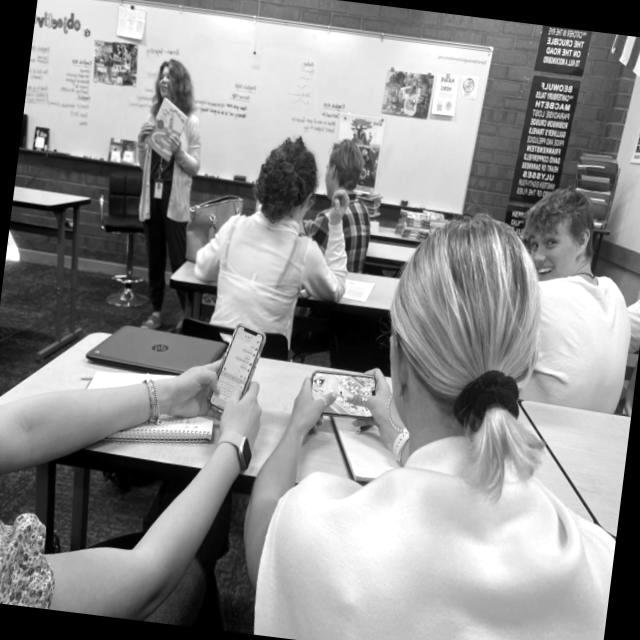phone: (206, 320, 268, 417), (306, 368, 378, 420)
